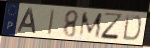8: (61, 9, 80, 39)
A: (16, 8, 37, 35)
D: (121, 13, 143, 42)
I: (46, 8, 57, 37)
M: (77, 11, 104, 39)
Z: (100, 11, 125, 42)
